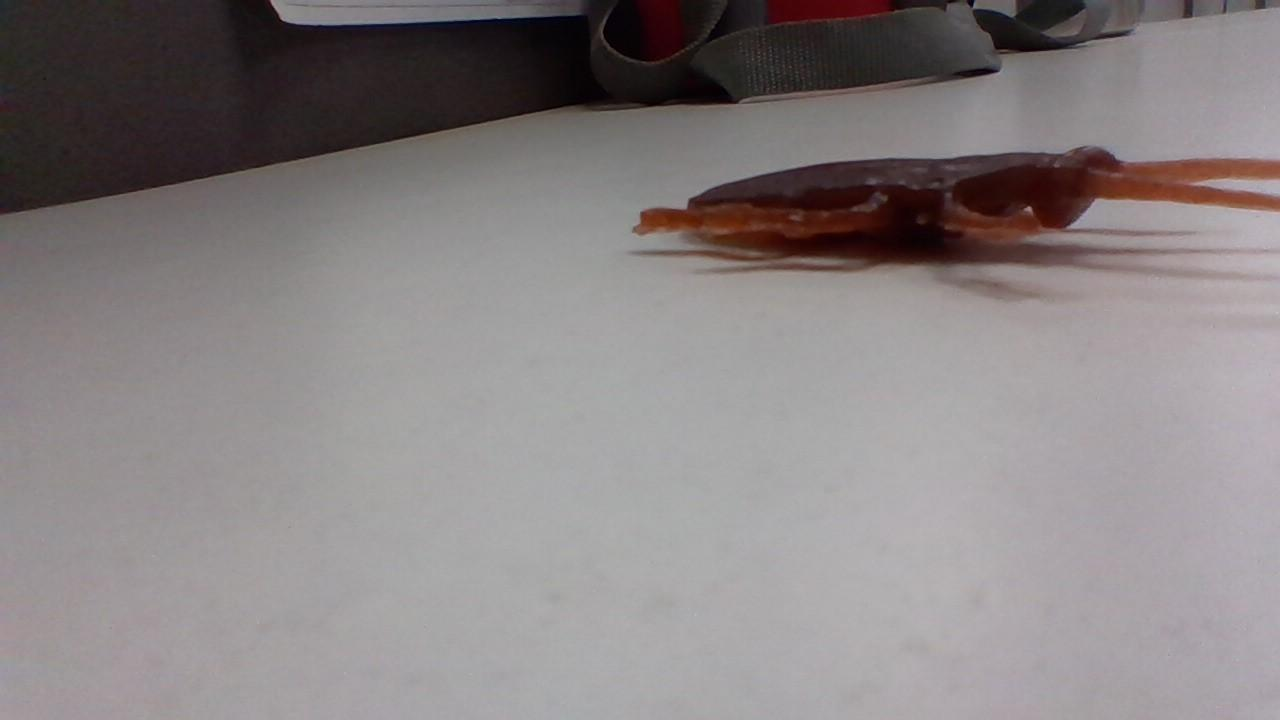cockroach: (622, 150, 1280, 272)
